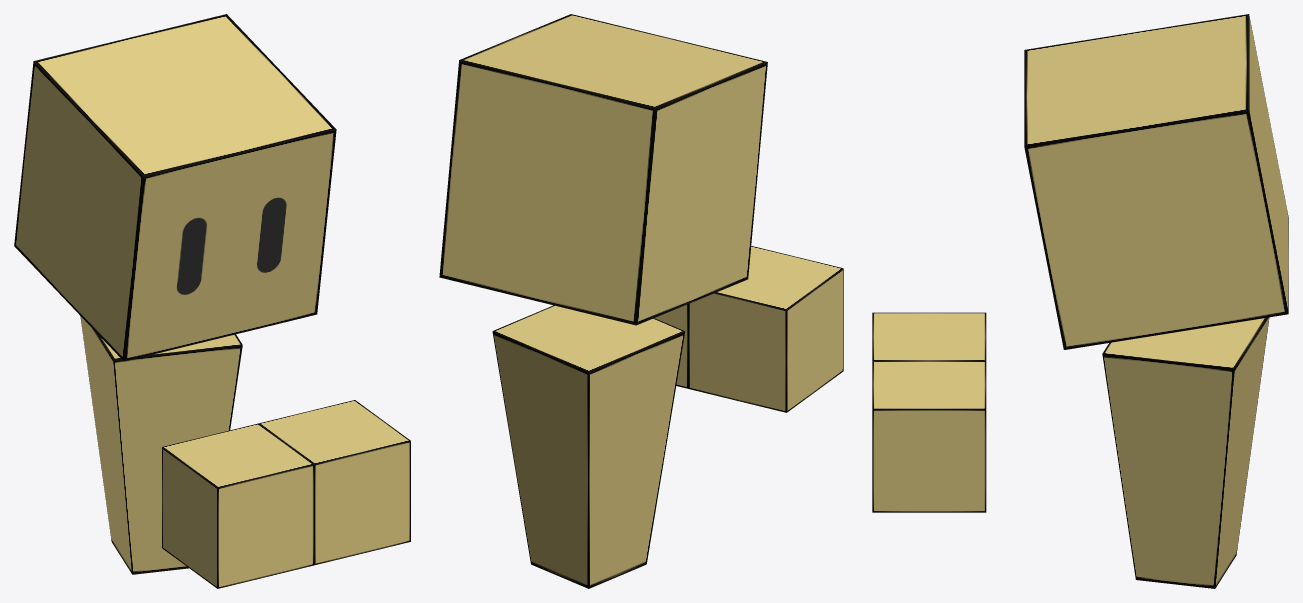
Rendered from player_shield.gltf.
The picture shows the model from 3 angles, left to right: view 1: azimuth 30°, elevation 25°; view 2: azimuth 150°, elevation 25°; view 3: azimuth 270°, elevation 25°; orthographic projection. The views are drawn at different scales.
Visible parts, largest first — view 1: cube, cube.001, cube.003, cube.002; view 2: cube, cube.001, cube.003, cube.002; view 3: cube, cube.001, cube.002, cube.003.
Boxes of the visible parts, bbox=[...] form: cube: bbox=[14, 14, 336, 361]; cube.001: bbox=[80, 316, 242, 574]; cube.003: bbox=[162, 423, 314, 588]; cube.002: bbox=[258, 400, 410, 565]; cube: bbox=[439, 14, 767, 325]; cube.001: bbox=[492, 305, 685, 588]; cube.003: bbox=[688, 246, 843, 412]; cube.002: bbox=[654, 304, 688, 388]; cube: bbox=[1024, 14, 1288, 349]; cube.001: bbox=[1102, 317, 1269, 588]; cube.002: bbox=[872, 361, 986, 512]; cube.003: bbox=[872, 312, 986, 360].
Bounding box in the file's own units: 0.8 × 1.95 × 1.46.
